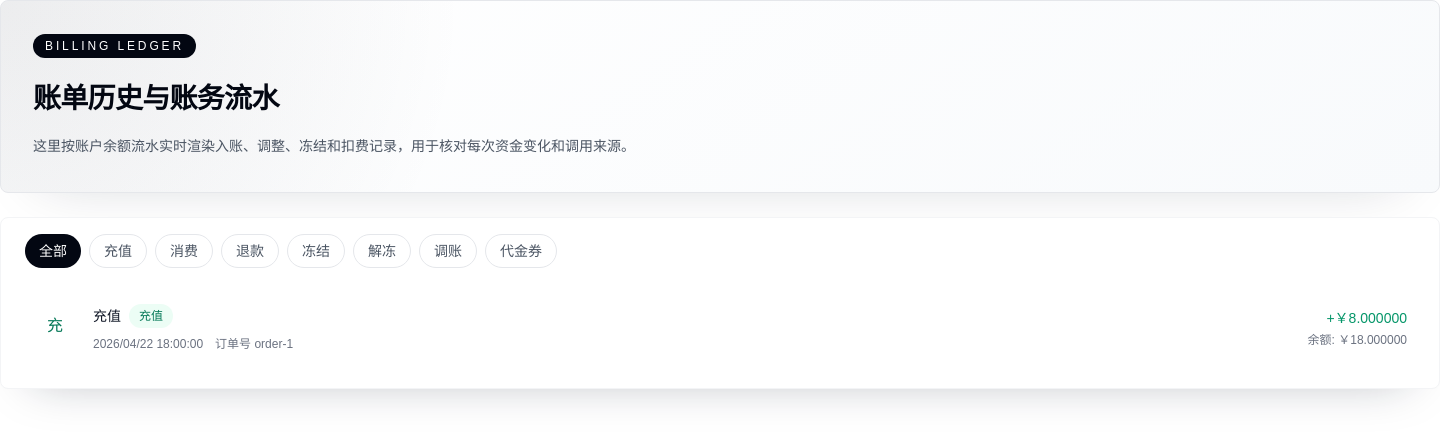
Test: BillingHistoryPage › distinguishes empty ledger from empty current type
This screenshot has width=1440, height=436.
What coordinates should you click on to do the following:
click the button "代金券"
I would click on:
 (521, 251)
Its box is 485,234 -> 557,268.
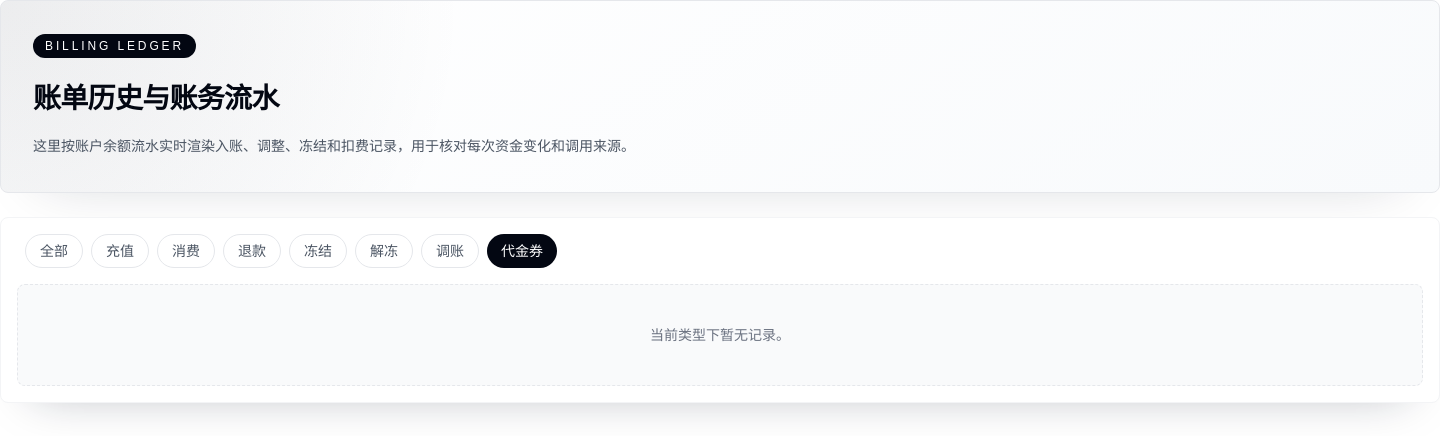
Expected: the text "当前类型下暂无记录。" is shown, 17,284 -> 1423,386
